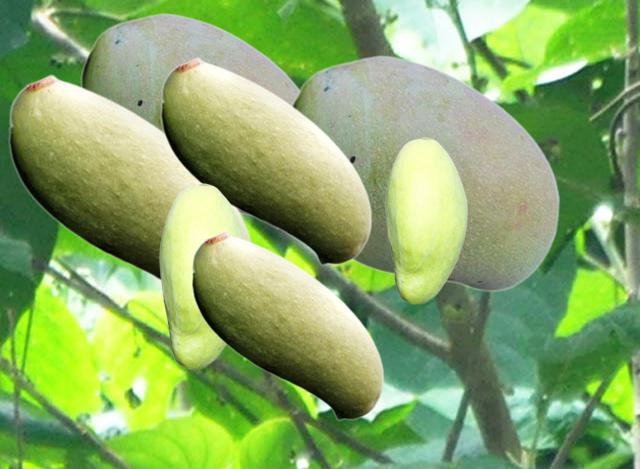green_mango: (291, 54, 559, 291), (8, 73, 253, 282), (80, 12, 299, 216), (160, 56, 371, 265), (191, 230, 383, 420), (159, 183, 245, 368), (385, 137, 466, 303)
